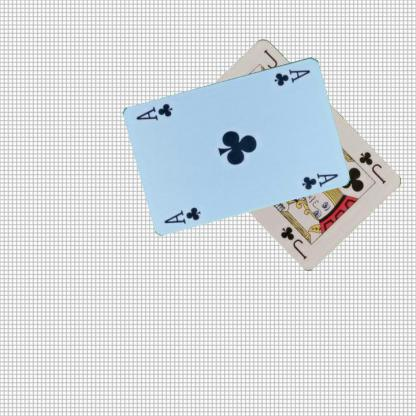Ac: (272, 66, 312, 88), (161, 204, 202, 225)
Jc: (356, 148, 386, 186)
